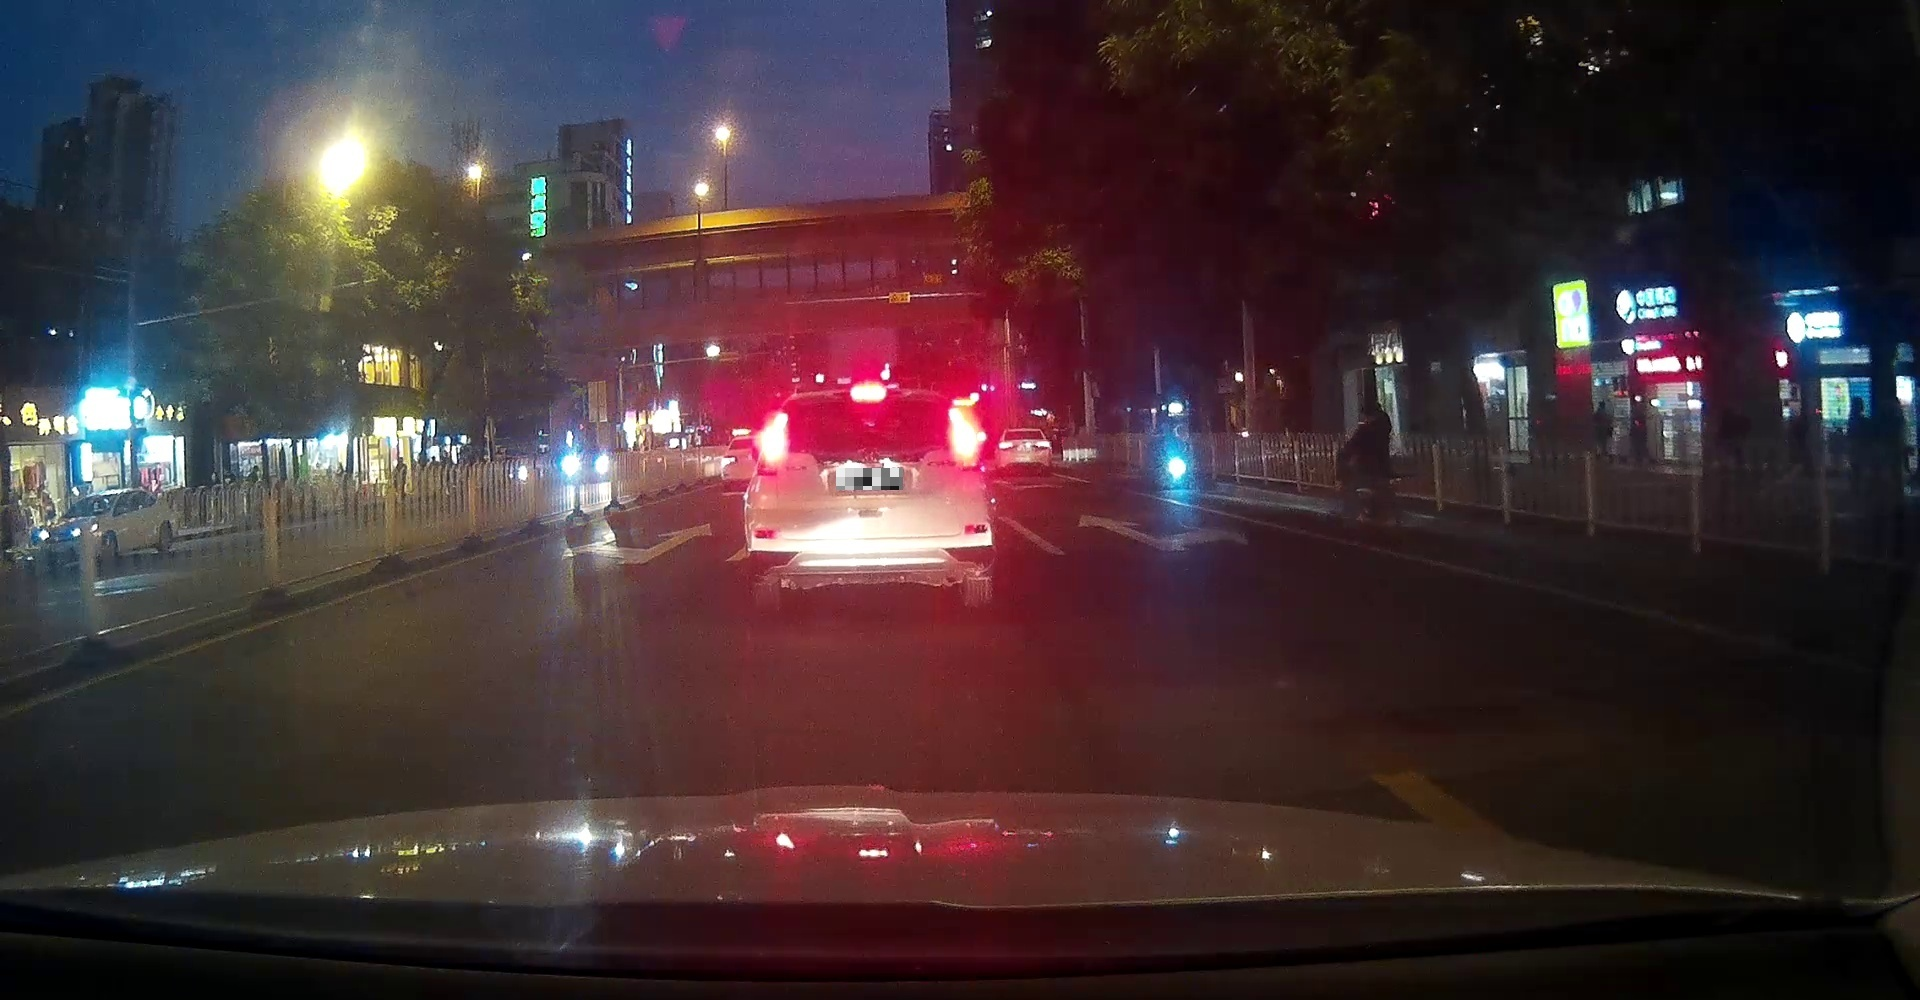L_light: (756, 458, 804, 477), (998, 442, 1013, 451)
R_light: (942, 457, 987, 471), (1035, 442, 1050, 448)
T_light: (850, 387, 886, 404), (1021, 431, 1030, 435)
night-brake: (743, 387, 992, 614)
night-no: (996, 428, 1051, 477)
plate_1: (836, 468, 903, 490)
